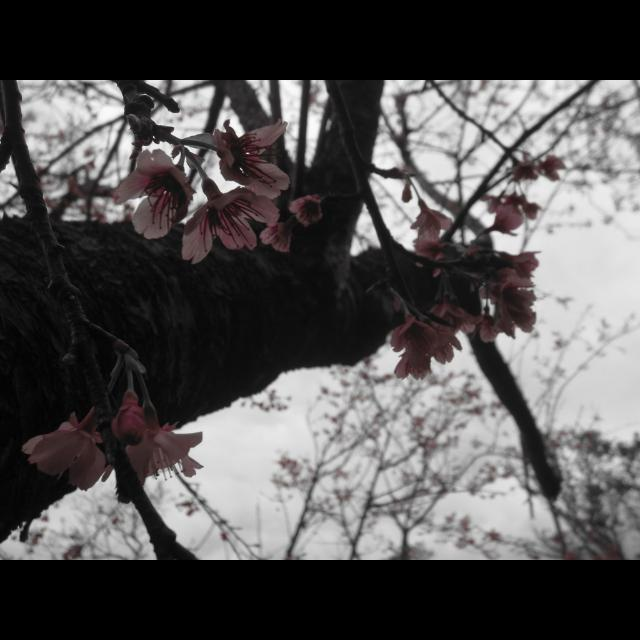Flower: (378, 199, 544, 381), (172, 115, 294, 203), (180, 183, 280, 264), (112, 146, 194, 238), (20, 406, 102, 496), (126, 397, 207, 487), (482, 188, 546, 222), (284, 194, 324, 228)
